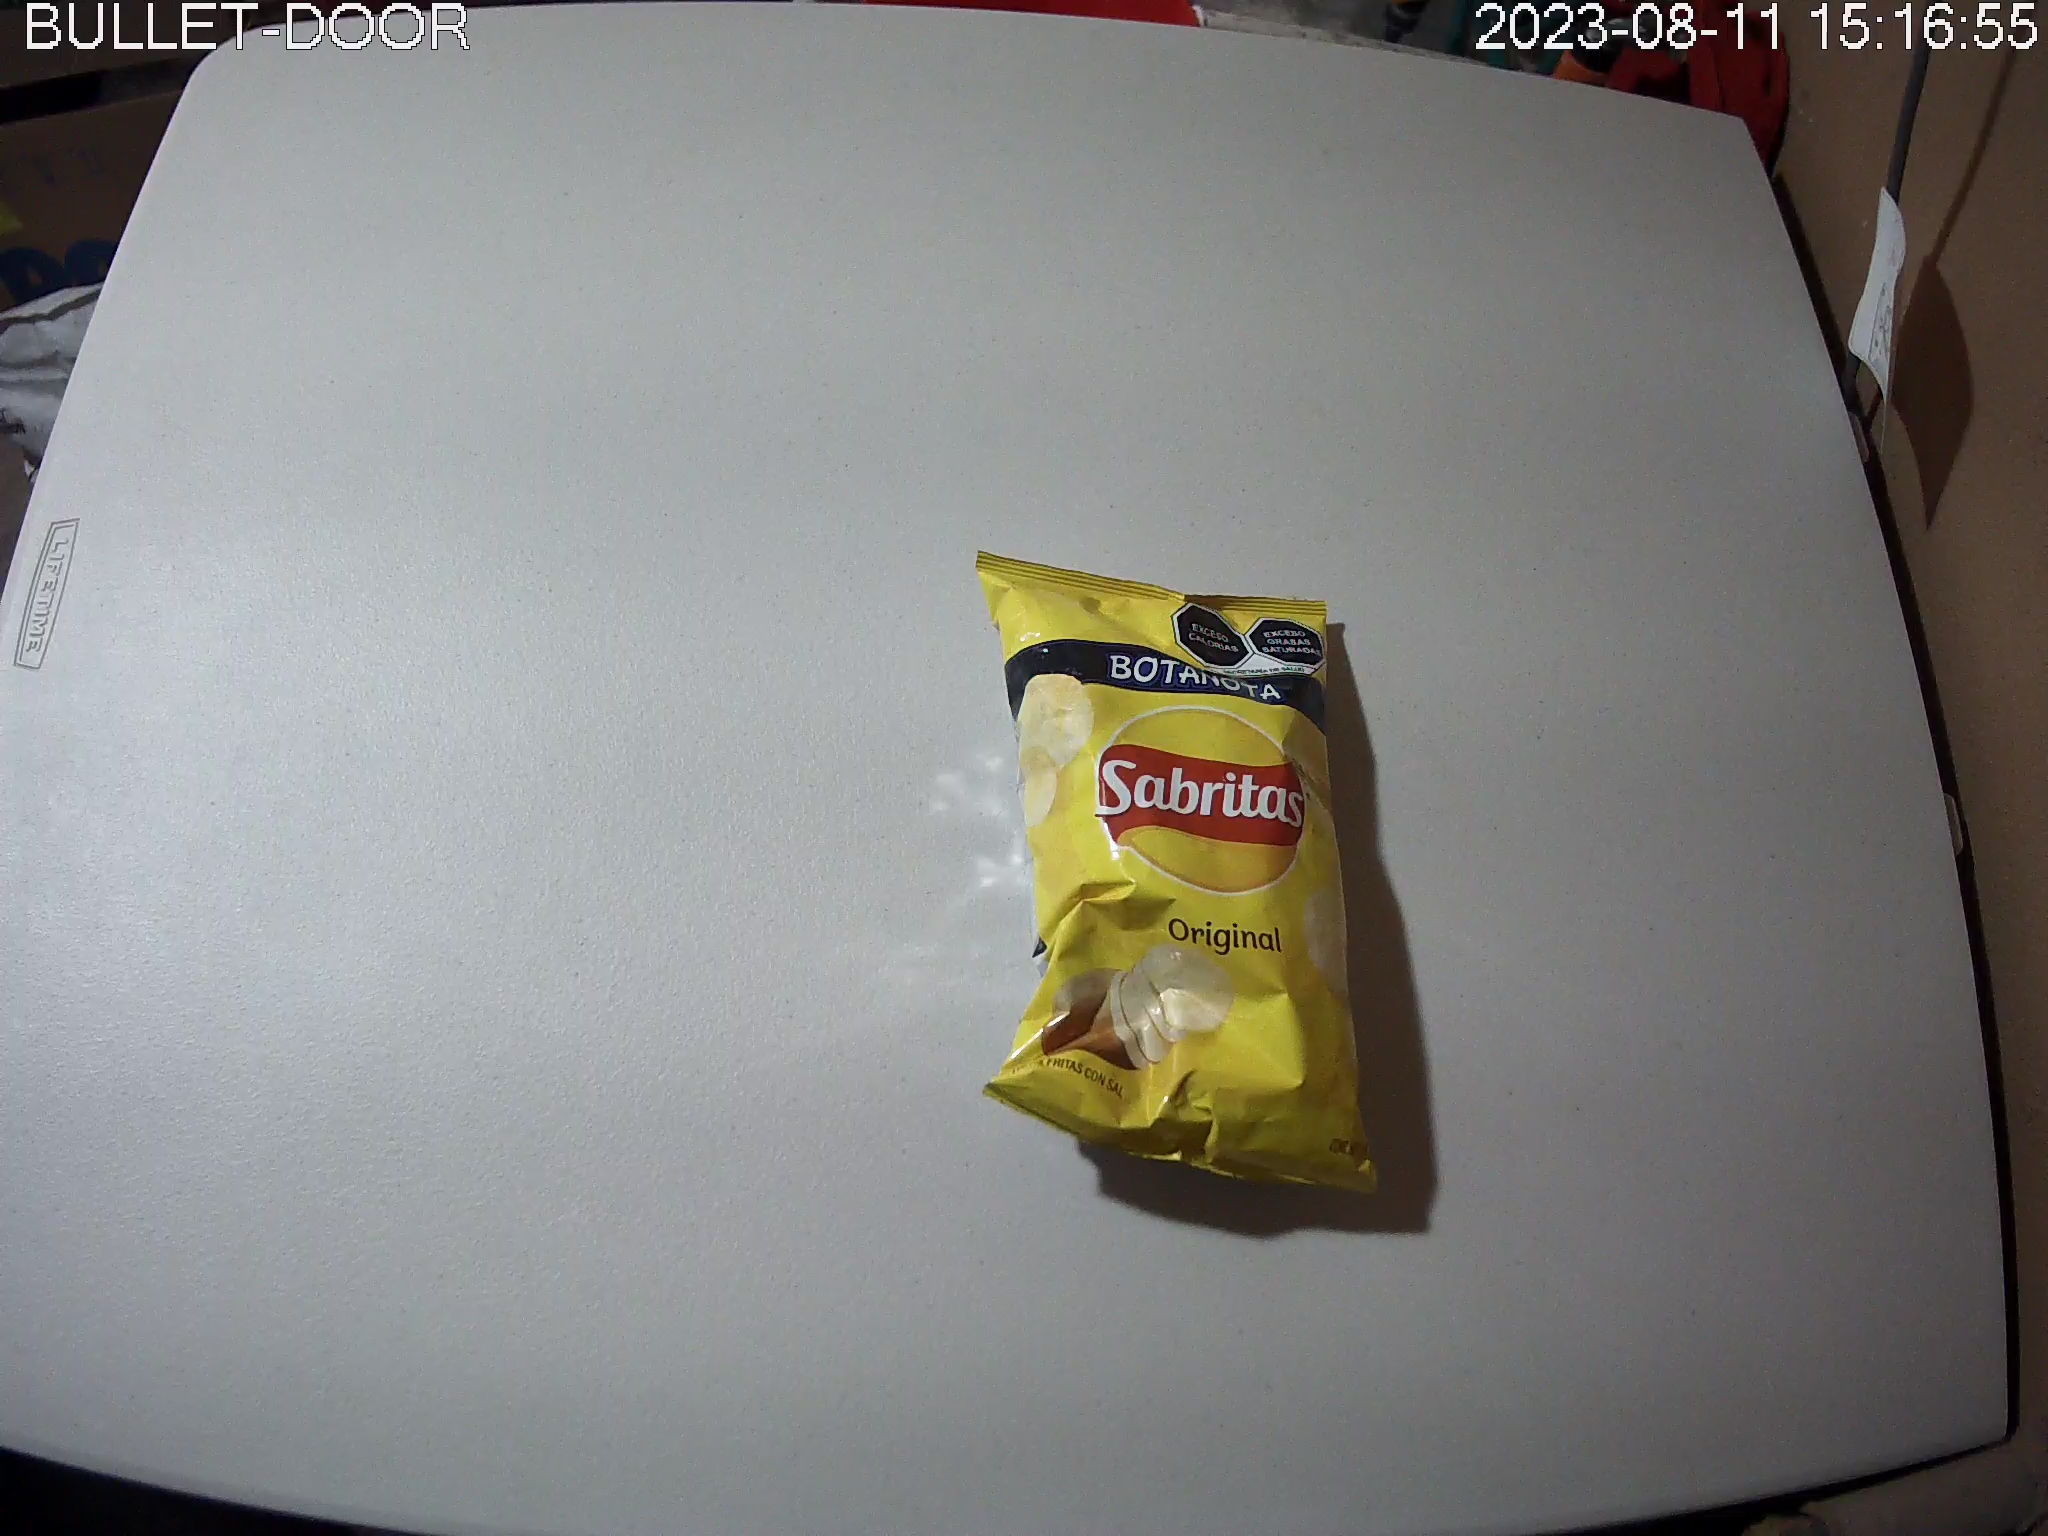Sabritas_64_F: (969, 550, 1384, 1207)
